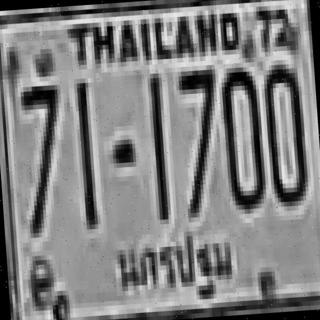N00: (217, 62, 264, 206), (261, 59, 308, 203)
N01: (74, 80, 95, 227), (147, 73, 168, 220)
N07: (18, 82, 66, 231), (175, 65, 222, 213)
P28: (113, 228, 240, 316)
